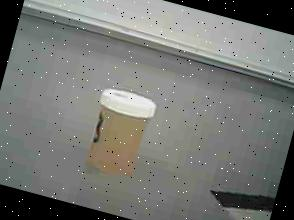Bottle B: (72, 80, 166, 186)
